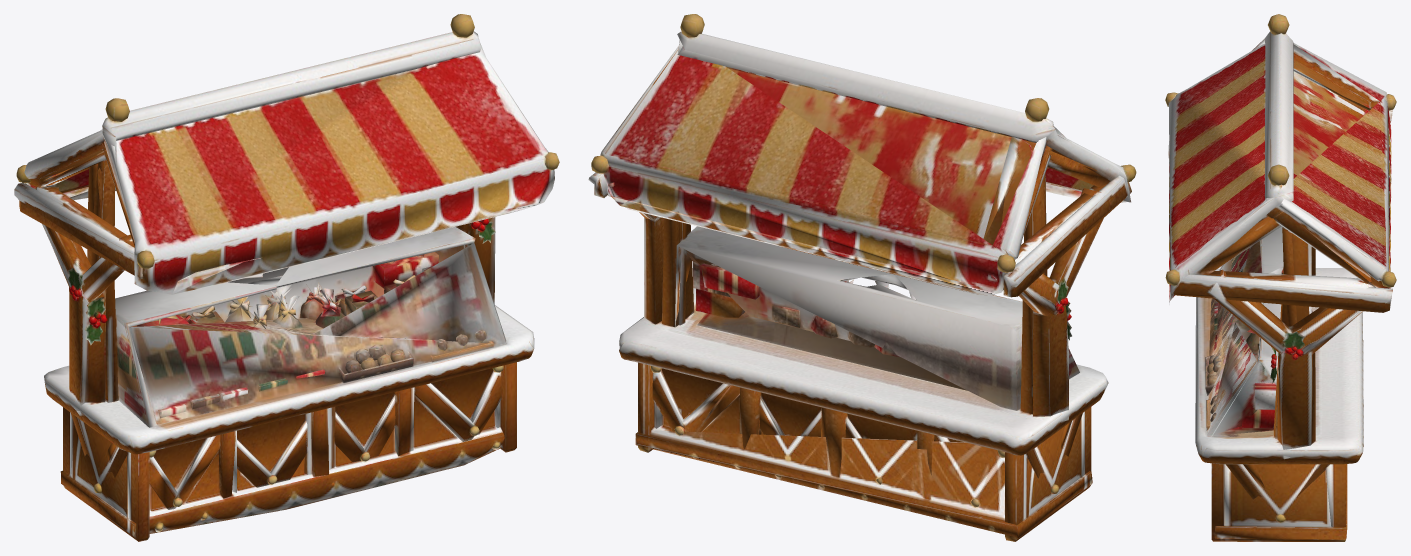
Rendered from AW-XMAS-MARKET-001-v0.2.glb.
The picture shows the model from 3 angles, left to right: view 1: azimuth 30°, elevation 25°; view 2: azimuth 150°, elevation 25°; view 3: azimuth 270°, elevation 25°; orthographic projection. The views are drawn at different scales.
Parts seen in each view (by area): view 1: AW-XMAS-MARKET-001_meter_ground_pivot; view 2: AW-XMAS-MARKET-001_meter_ground_pivot; view 3: AW-XMAS-MARKET-001_meter_ground_pivot.
Part boxes in pixels (<box>): AW-XMAS-MARKET-001_meter_ground_pivot: <box>14,14,559,541</box>; AW-XMAS-MARKET-001_meter_ground_pivot: <box>588,14,1136,541</box>; AW-XMAS-MARKET-001_meter_ground_pivot: <box>1165,14,1396,541</box>.
Bounding box in the file's own units: 4.32 × 4 × 2.25.
Materials: 1 (1 with a texture image).
